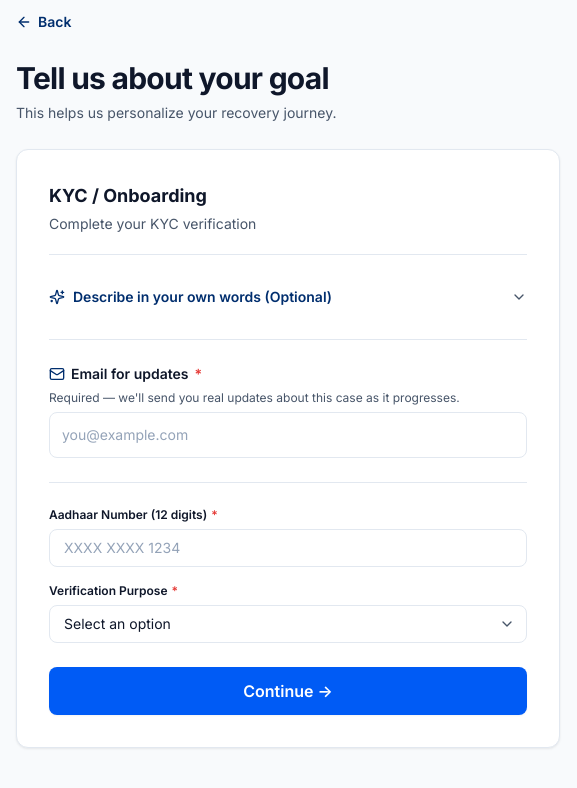
Screen03GoalBasicInfo › requires an email and blocks submission when left blank
Type "1234 5678 9012" into the field labelled "Aadhaar Number (12 digits)*" at (288, 548), box [49,529,527,567]
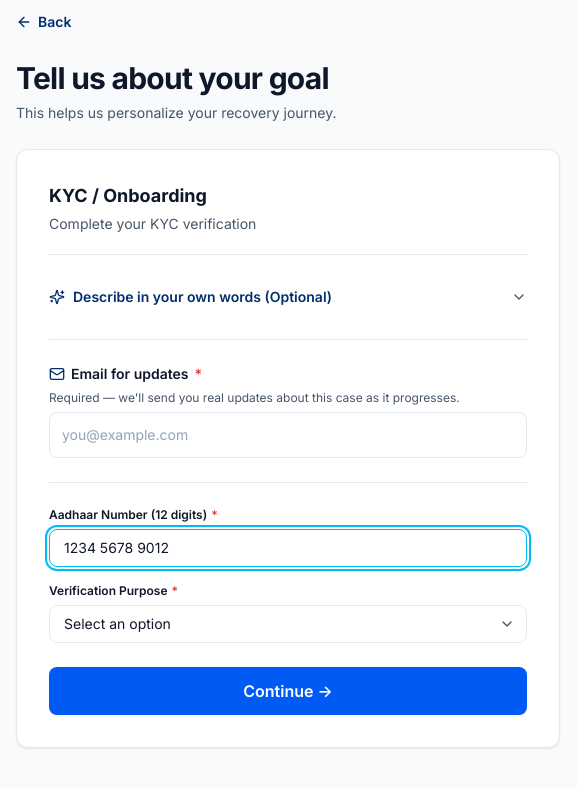
Select "Wallet Upgrade" in the dropdown labelled "Verification Purpose*" at (288, 624), box [49,605,527,643]
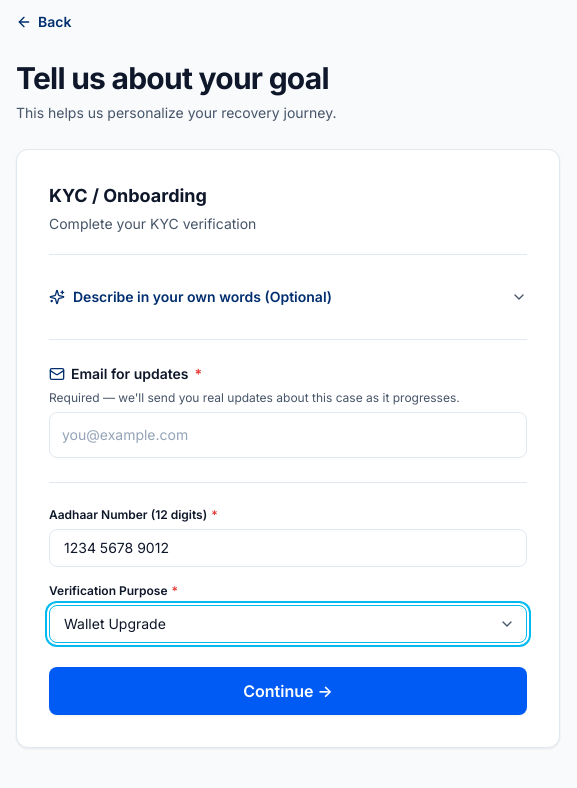
Click the button "Continue →" at (288, 691), box [49,667,527,715]
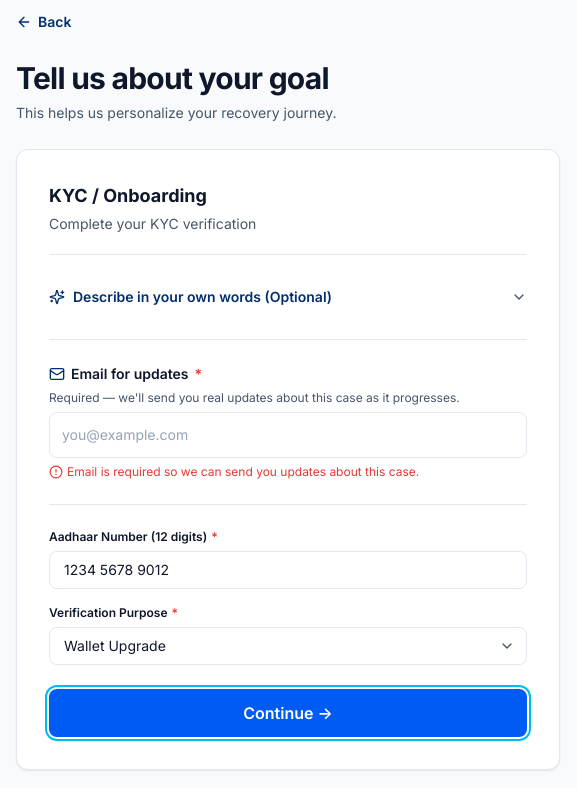
Check: the text "Email is required" is shown, box [67,464,419,479]
